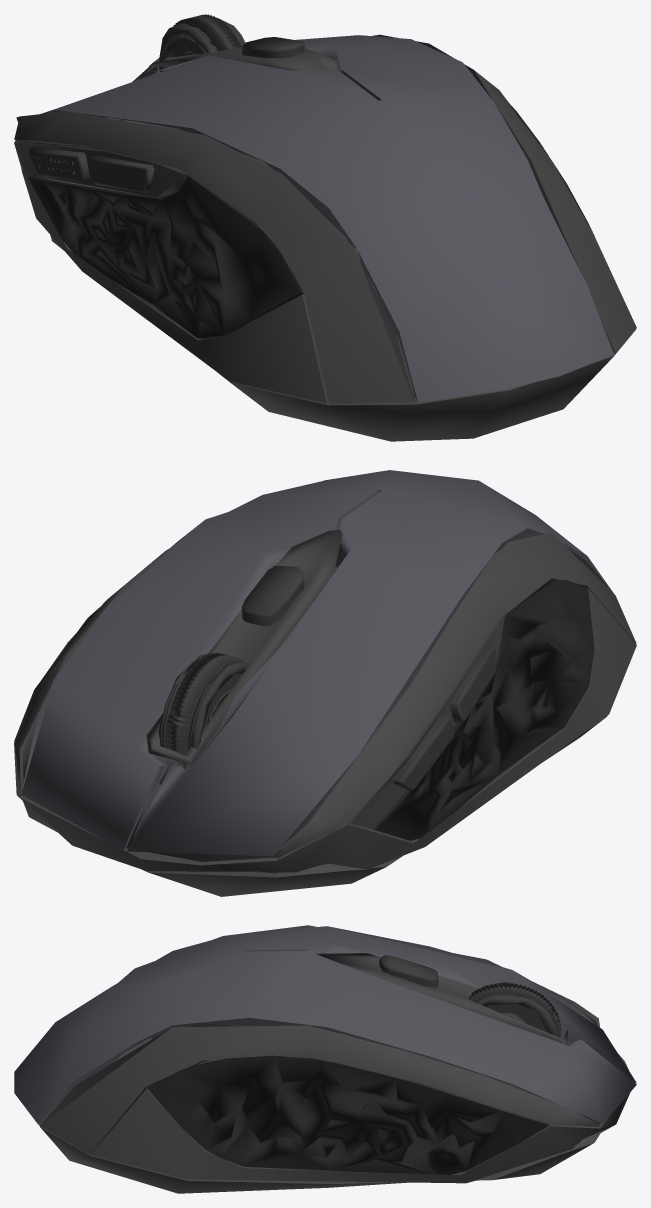
File: mouse.glb
3 renders of one model, top to bottom at view 1: azimuth 30°, elevation 25°; view 2: azimuth 150°, elevation 25°; view 3: azimuth 270°, elevation 25°, orthographic. The views are drawn at different scales.
Visible parts, largest first — view 1: sm_mousebody_b01_mesh_00, sm_wheel_b01_mesh_00, sm_button3_b01_mesh_00, sm_button1_b01_mesh_00, sm_button2_b01_mesh_00; view 2: sm_mousebody_b01_mesh_00, sm_wheel_b01_mesh_00, sm_button2_b01_mesh_00, sm_button1_b01_mesh_00, sm_button3_b01_mesh_00; view 3: sm_mousebody_b01_mesh_00, sm_wheel_b01_mesh_00, sm_button2_b01_mesh_00.
Boxes of the visible parts, box(x1,y1,x2,y2) form: sm_mousebody_b01_mesh_00: box(14, 34, 636, 441); sm_wheel_b01_mesh_00: box(158, 14, 245, 72); sm_button3_b01_mesh_00: box(89, 155, 154, 192); sm_button1_b01_mesh_00: box(28, 146, 89, 181); sm_button2_b01_mesh_00: box(242, 37, 304, 58); sm_mousebody_b01_mesh_00: box(14, 470, 636, 896); sm_wheel_b01_mesh_00: box(158, 652, 248, 754); sm_button2_b01_mesh_00: box(242, 565, 304, 626); sm_button1_b01_mesh_00: box(393, 715, 453, 791); sm_button3_b01_mesh_00: box(449, 644, 496, 723); sm_mousebody_b01_mesh_00: box(14, 925, 636, 1193); sm_wheel_b01_mesh_00: box(468, 982, 560, 1037); sm_button2_b01_mesh_00: box(379, 955, 438, 987).
Size of the model in its own units: 0.062 by 0.038 by 0.115.
4 materials, 1 textured.
